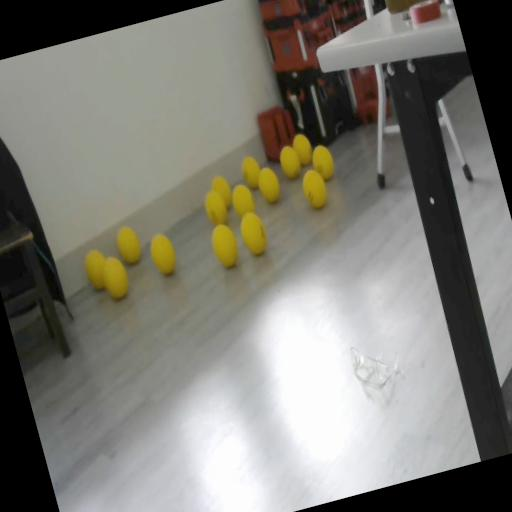FUEL: (206, 219, 243, 271), (235, 206, 271, 258), (144, 228, 180, 278), (96, 252, 132, 302), (298, 164, 332, 211), (113, 224, 144, 266), (254, 164, 284, 205), (228, 180, 258, 220), (308, 142, 338, 182), (207, 171, 236, 212), (289, 130, 316, 168), (276, 142, 303, 180), (238, 154, 264, 190)
